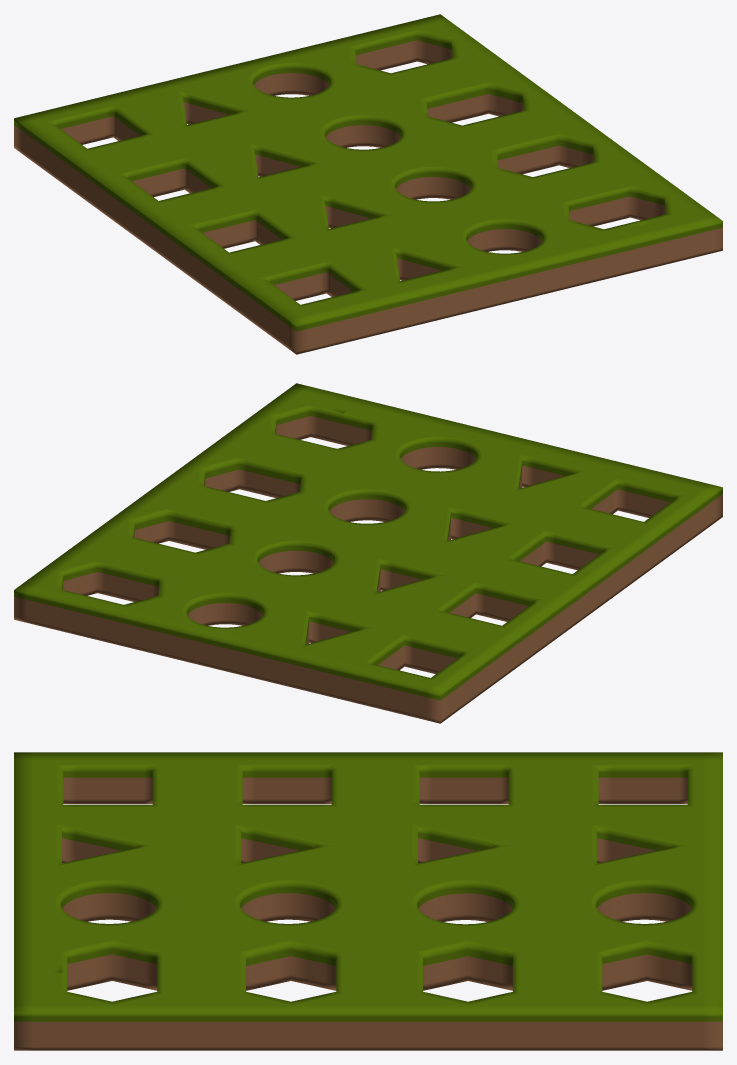
Rendered from Base for Trees 1.fbx.
3 renders of one model, top to bottom at view 1: azimuth 30°, elevation 25°; view 2: azimuth 150°, elevation 25°; view 3: azimuth 270°, elevation 25°, orthographic. The views are drawn at different scales.
Parts seen in each view (by area): view 1: Cube; view 2: Cube; view 3: Cube.
Boxes of the visible parts, box(x1,y1,x2,y2) form: Cube: box(14, 14, 722, 354); Cube: box(14, 383, 722, 723); Cube: box(14, 752, 722, 1050).
Bounding box in the file's own units: 1408 × 93.57 × 1615.
